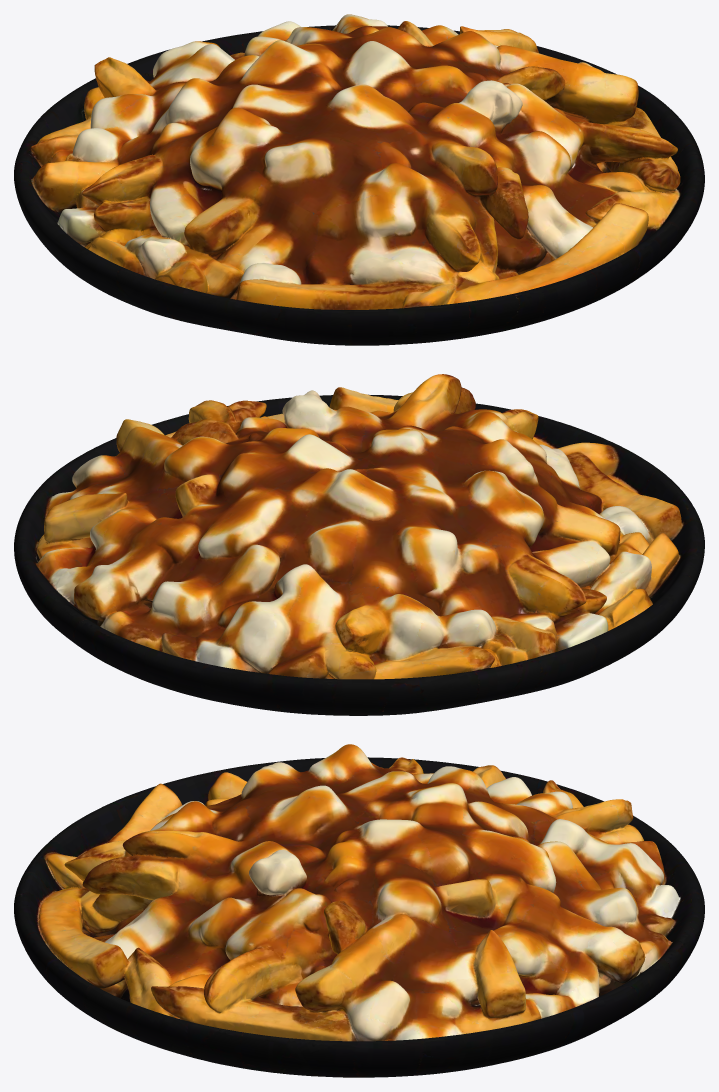
The model's file is poutine.glb.
3 views of the same model, one above another, from view 1: azimuth 30°, elevation 25°; view 2: azimuth 150°, elevation 25°; view 3: azimuth 270°, elevation 25° (orthographic).
Visible parts, largest first — view 1: Mesh_0.003; view 2: Mesh_0.003; view 3: Mesh_0.003.
Part boxes in pixels (x1=…): Mesh_0.003: x1=14, y1=14, x2=704, y2=345; Mesh_0.003: x1=14, y1=374, x2=704, y2=715; Mesh_0.003: x1=14, y1=744, x2=704, y2=1077.
Bounding box in the file's own units: 0.1109 × 0.03 × 0.1109.
1 material, 1 textured.
